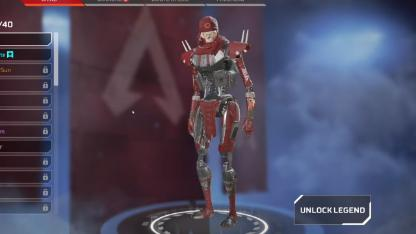Target: (180, 14, 256, 198)
